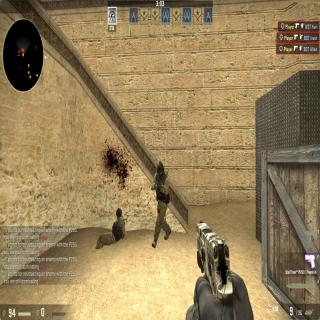CT-Body: (151, 158, 170, 248)
CT-Head: (156, 160, 166, 178)
